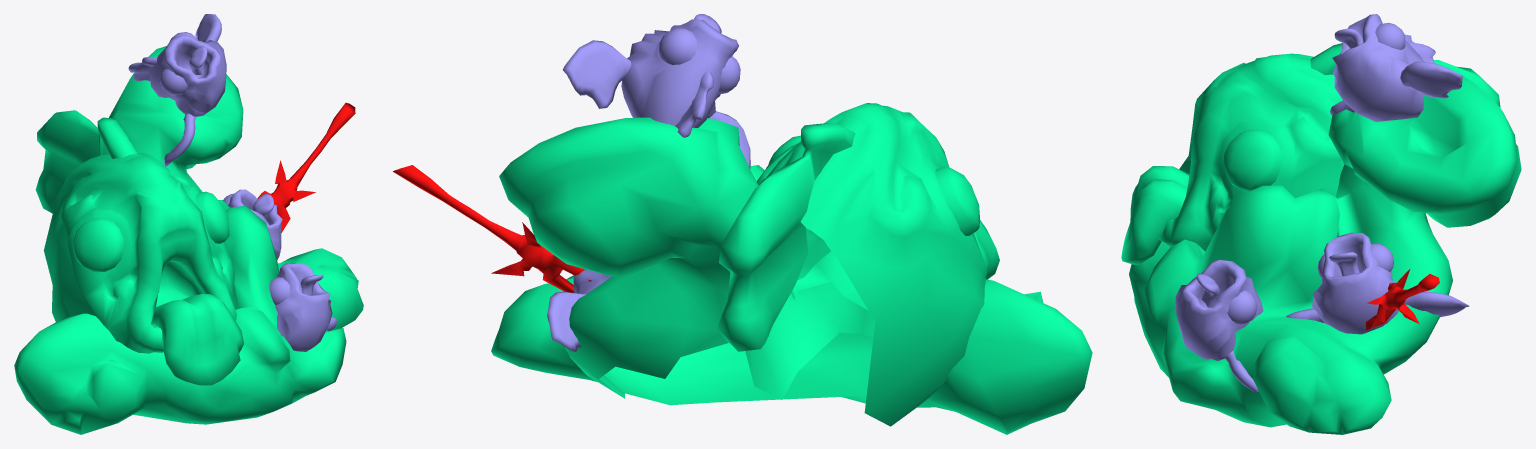
File: SM_FishGod.FBX
The picture shows the model from 3 angles, left to right: view 1: azimuth 30°, elevation 25°; view 2: azimuth 150°, elevation 25°; view 3: azimuth 270°, elevation 25°; orthographic projection. The views are drawn at different scales.
Visible parts, largest first — view 1: SM_FishGod; view 2: SM_FishGod; view 3: SM_FishGod.
Part boxes in pixels (bbox=[...]): SM_FishGod: bbox=[14, 14, 363, 434]; SM_FishGod: bbox=[393, 14, 1092, 434]; SM_FishGod: bbox=[1121, 14, 1521, 434].
Bounding box in the file's own units: 736 × 520 × 525.
